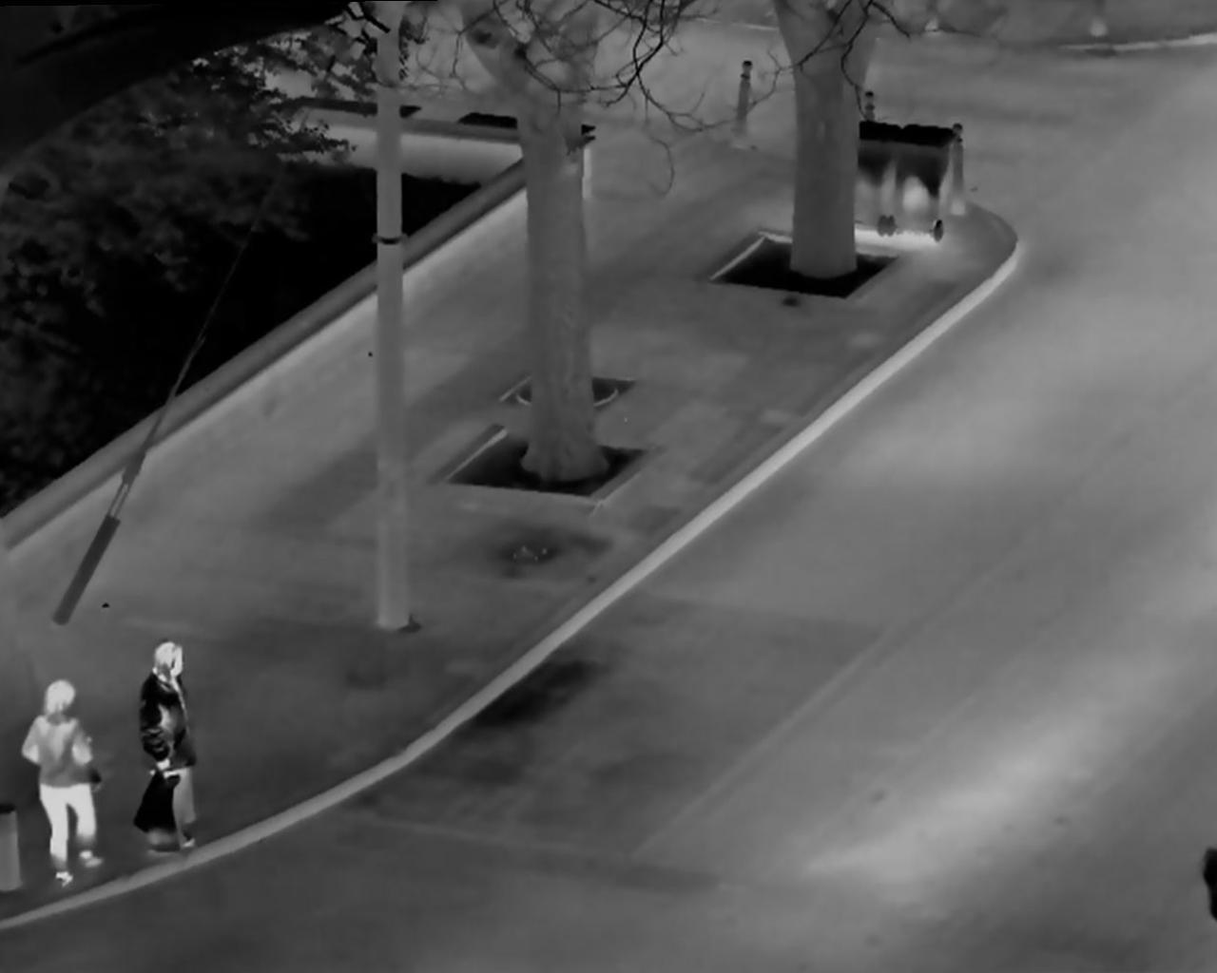person: (113, 636, 241, 865), (20, 677, 109, 892)
